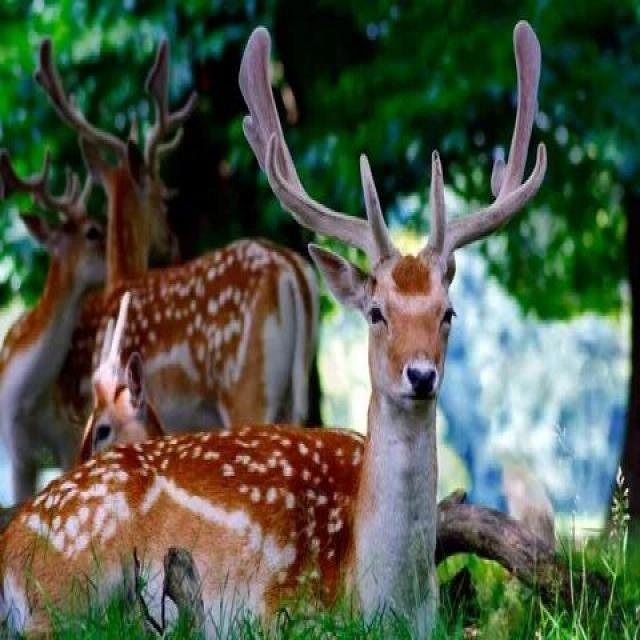deer: (38, 81, 556, 640)
